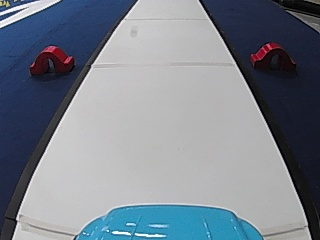bridge: (28, 42, 75, 76), (249, 38, 297, 71)
